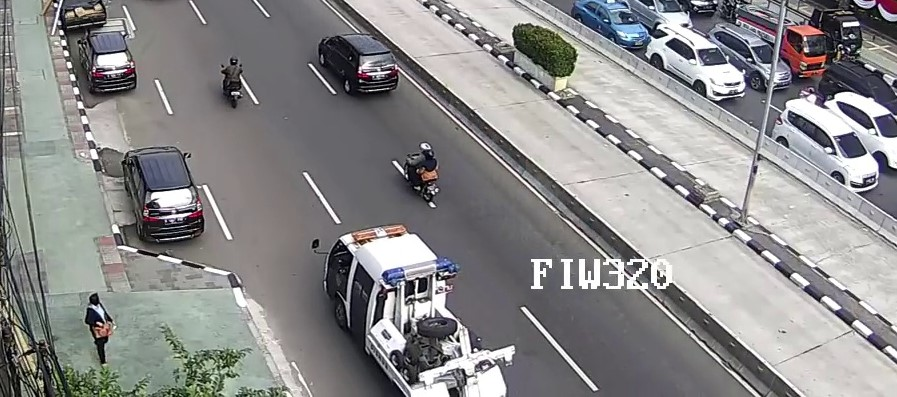car: (326, 223, 507, 397), (773, 97, 877, 194), (121, 145, 205, 245), (644, 22, 745, 103), (736, 3, 863, 67), (731, 2, 824, 75), (816, 58, 897, 131), (826, 90, 897, 172), (708, 21, 790, 92), (321, 32, 397, 98), (78, 29, 138, 95), (572, 1, 649, 52), (627, 1, 695, 36)
motorbike: (403, 144, 441, 203), (221, 56, 246, 111)
